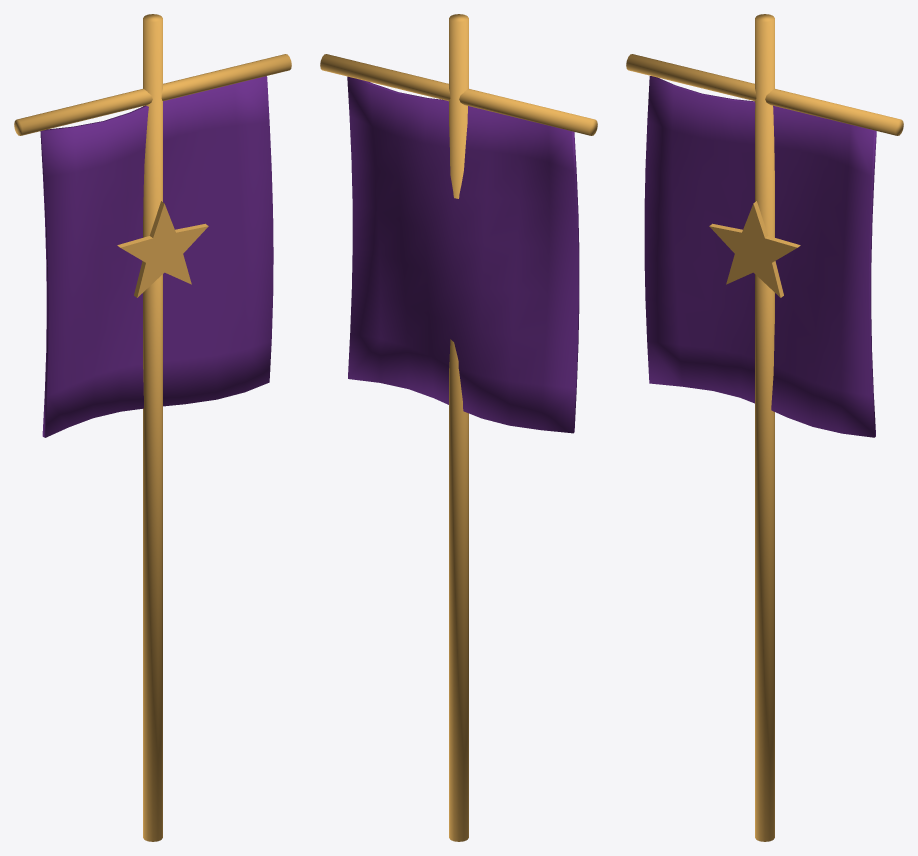
The model's file is prop-10-refined-v15.fbx.
The picture shows the model from 3 angles, left to right: view 1: azimuth 30°, elevation 25°; view 2: azimuth 150°, elevation 25°; view 3: azimuth 330°, elevation 25°; orthographic projection.
Parts seen in each view (by area): view 1: DrapedBanner, BannerPole, Crossbar, BannerSigil; view 2: DrapedBanner, BannerPole, Crossbar; view 3: DrapedBanner, BannerPole, Crossbar, BannerSigil.
Boxes of the visible parts, x1,y1,x2,y2 form: DrapedBanner: (40,76,273,437); BannerPole: (143,14,162,841); Crossbar: (14,54,291,135); BannerSigil: (117,201,208,297); DrapedBanner: (347,76,579,433); BannerPole: (449,14,468,841); Crossbar: (320,54,597,135); DrapedBanner: (644,76,876,437); BannerPole: (755,14,774,841); Crossbar: (626,54,903,135); BannerSigil: (709,201,800,297).
Size of the model in its own units: 110 by 320 by 12.68.
